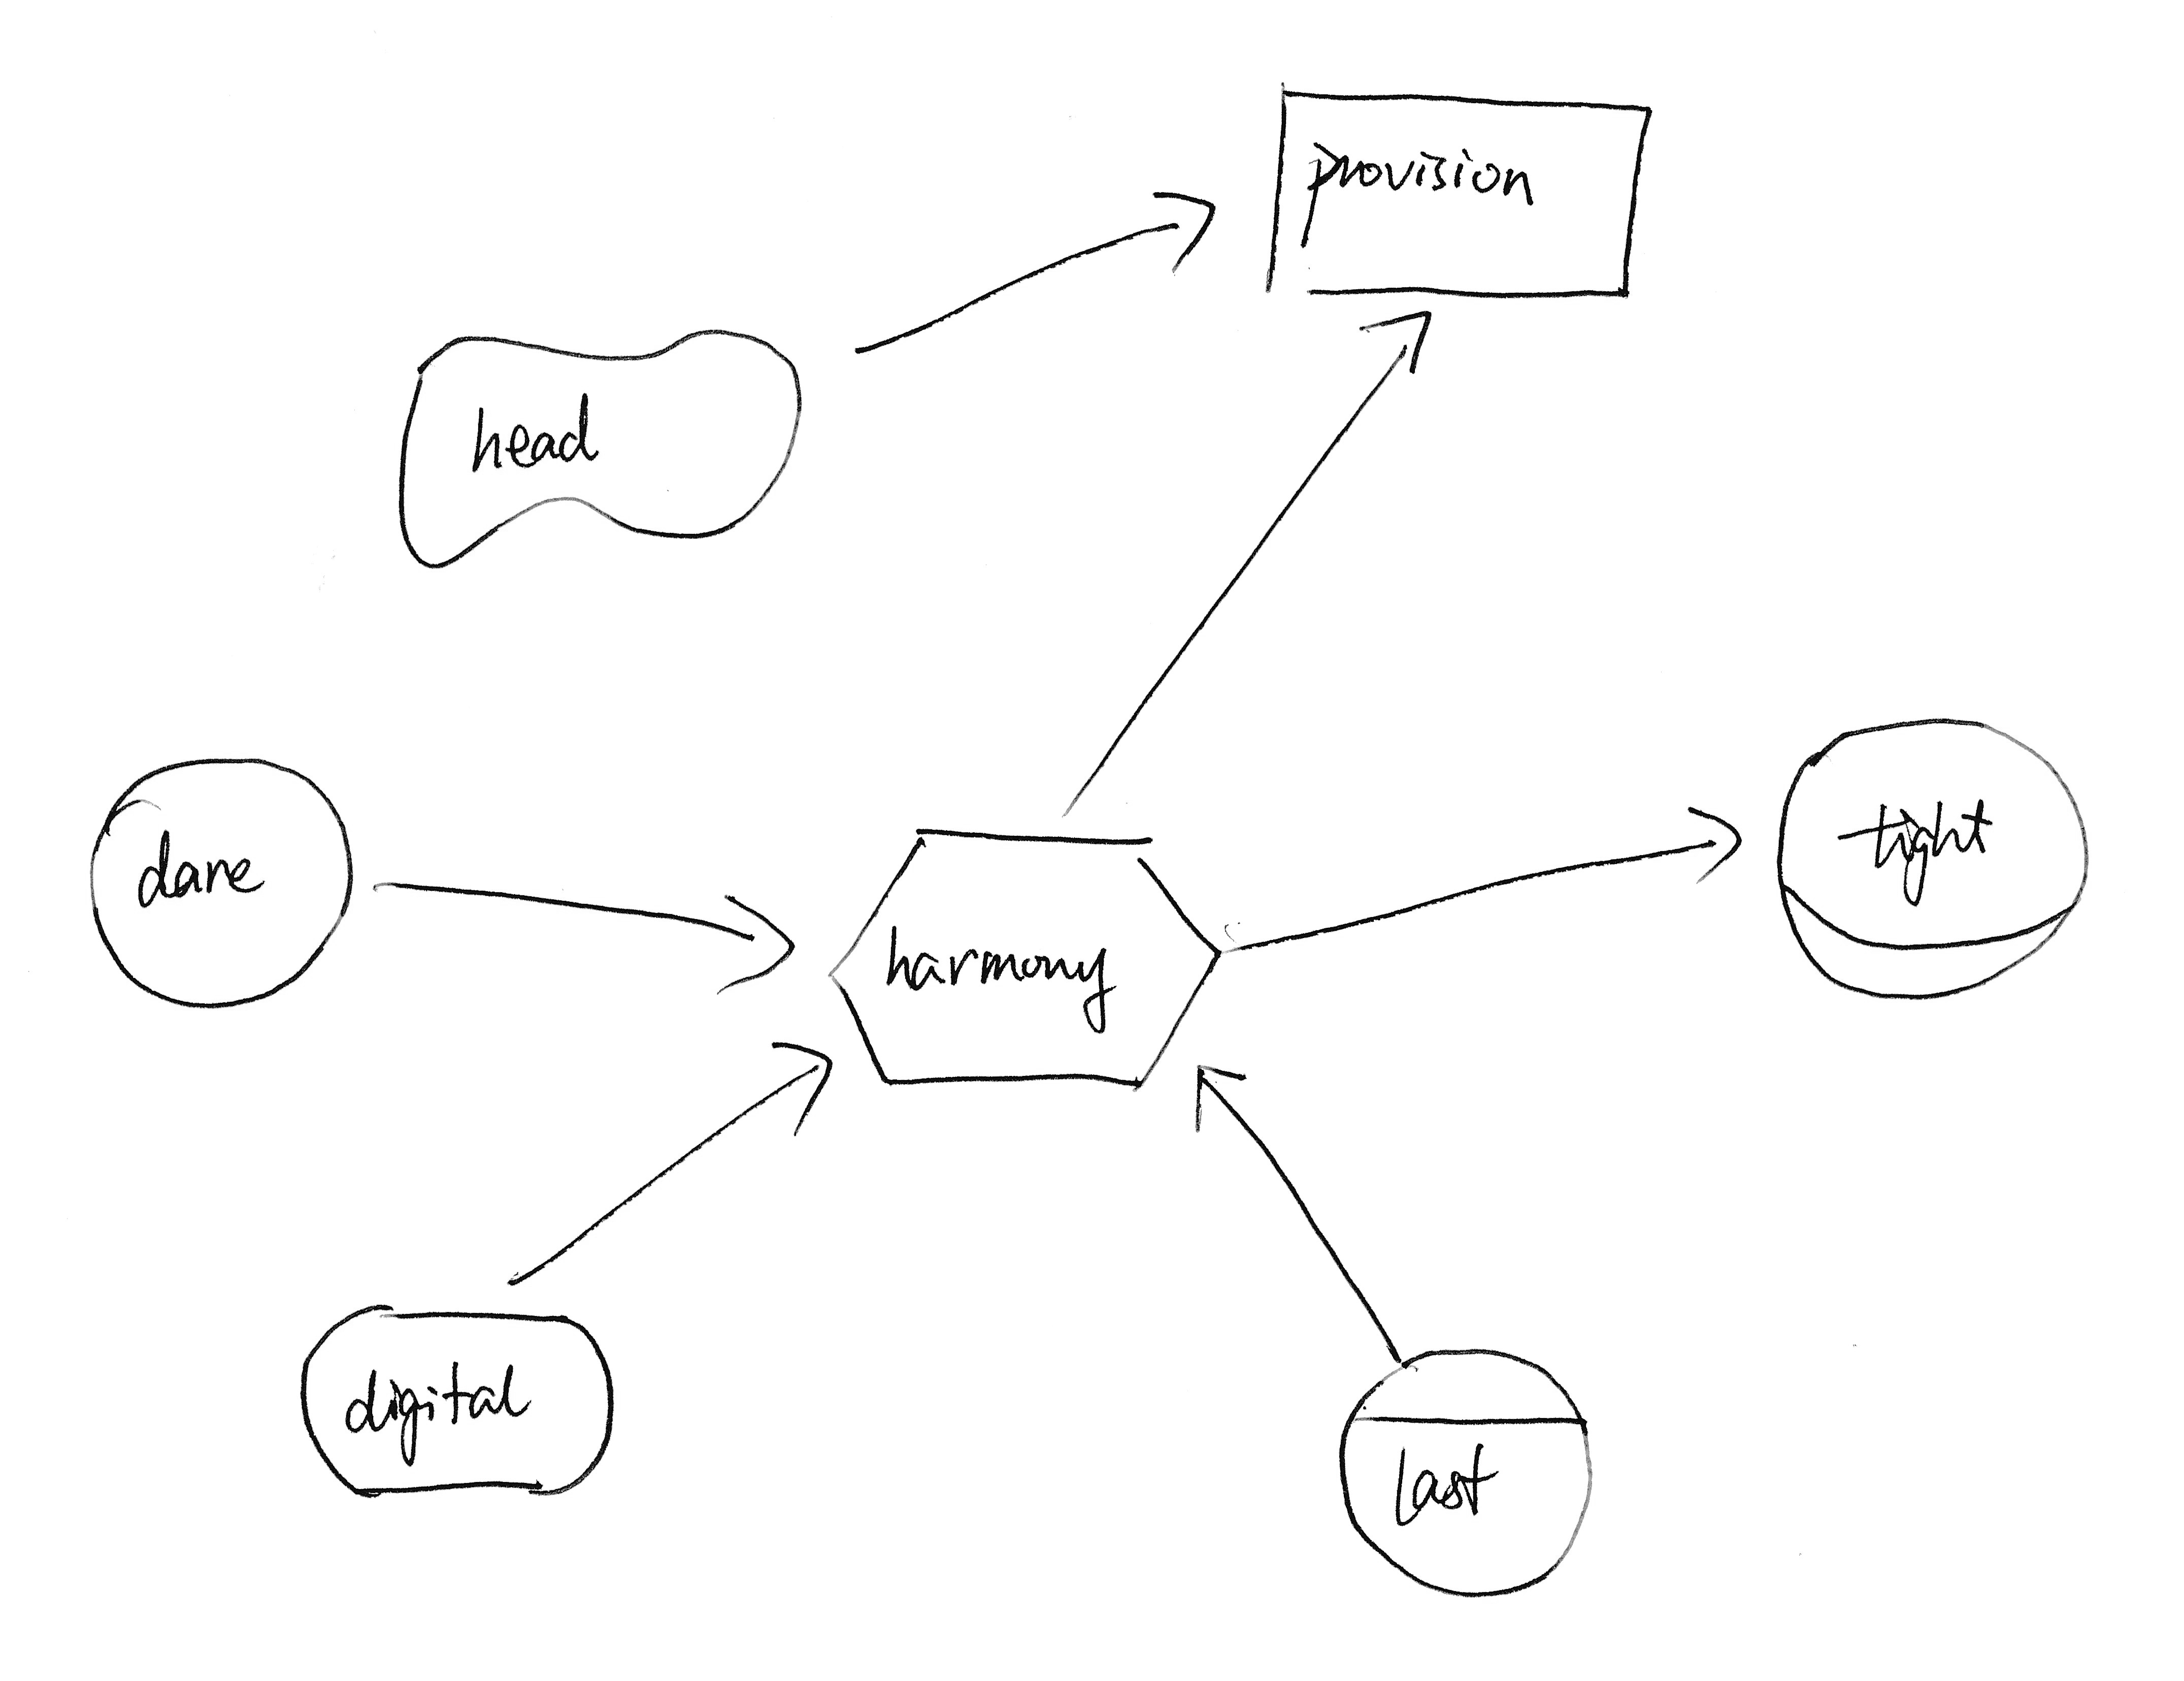actor: (74, 745, 367, 1028)
agent: (1317, 1335, 1601, 1605)
arrow: (1128, 173, 1231, 307), (701, 876, 800, 996), (761, 1015, 849, 1148), (1672, 784, 1760, 899), (1340, 305, 1451, 392), (1176, 1047, 1255, 1142)
goal: (275, 1289, 636, 1519)
quality: (383, 307, 823, 583)
resource: (1243, 51, 1672, 327)
role: (1757, 696, 2110, 1022)
task: (814, 809, 1227, 1109)
